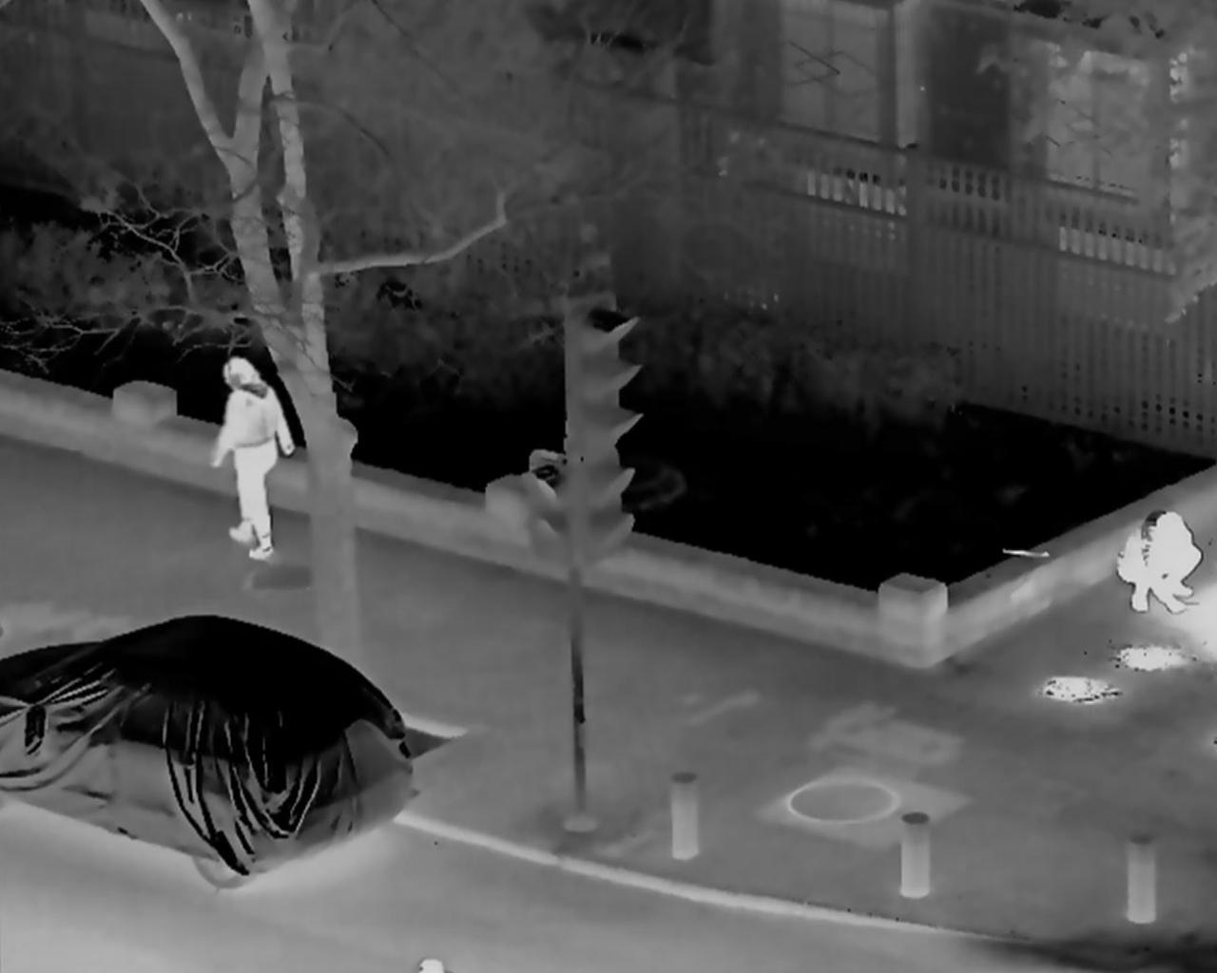person: (210, 360, 295, 563), (1122, 509, 1200, 618)
